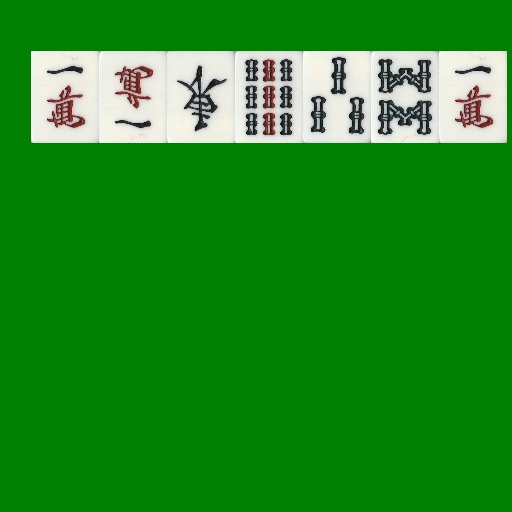1m: (31, 51, 99, 143), (99, 51, 167, 143), (439, 51, 507, 143)
3s: (303, 51, 371, 143)
8s: (371, 51, 439, 143)
9s: (235, 51, 303, 143)
east: (167, 51, 235, 143)
